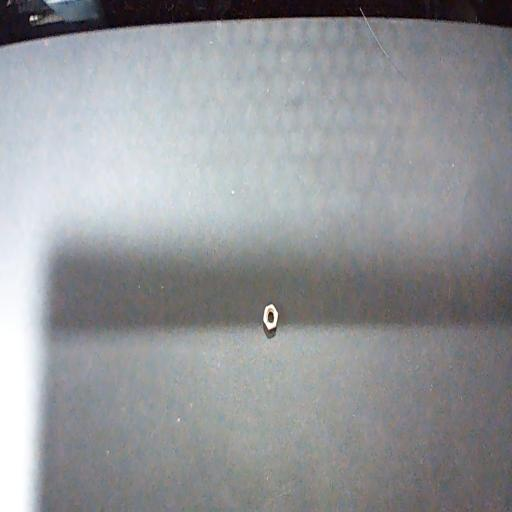nut: (263, 305, 278, 338)
